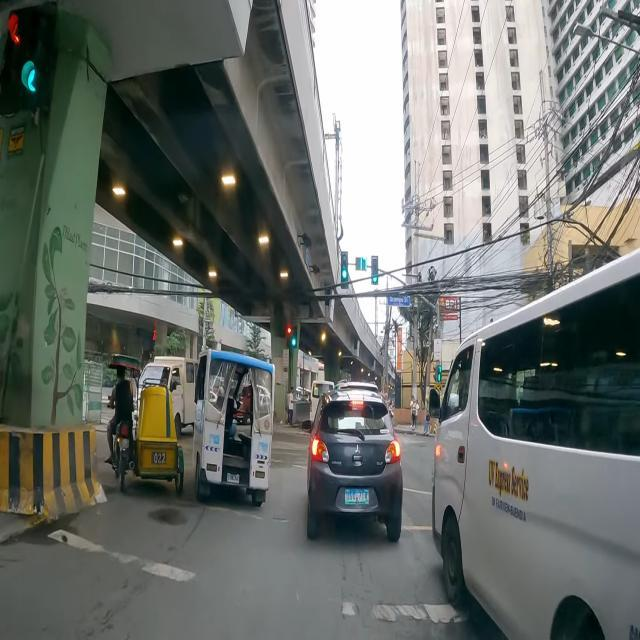car: (432, 250, 640, 640), (306, 389, 403, 542)
tricycle: (193, 349, 274, 506), (106, 354, 184, 494)
